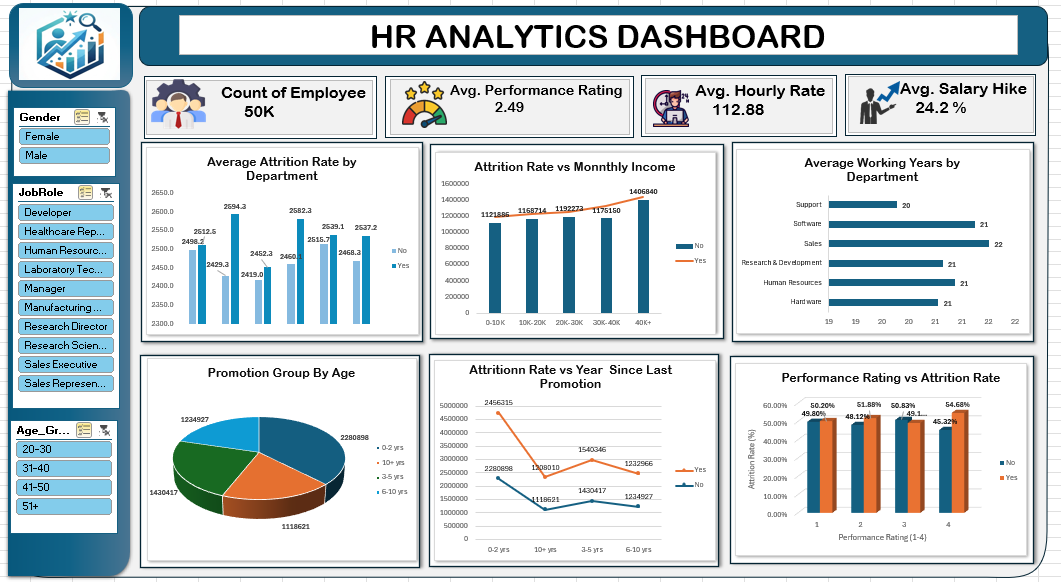

The page's visual inventory and layout, read from the dashboard file:
{"tool":"tableau","page":{"name":"Dashboard 1","canvas":[1000,1000],"units":"permille","ordinal":0},"visuals":[{"type":"title","box":[6.7,12.7,986.7,131.8]},{"type":"filter","title":"Avg Attrition rate for department","param":"[federated.1ltpma11v8394i160rquc02febbc].[none:Attrition:nk]","box":[887.5,115.9,97.5,130.2]},{"type":"worksheet","title":"Avg of Years at Company","mark":"Automatic","box":[124.2,117.5,174.2,128.6]},{"type":"filter","title":"Avg Attrition rate for department","param":"[federated.1ltpma11v8394i160rquc02febbc].[none:Department:nk]","box":[770,117.5,115.8,128.6]},{"type":"worksheet","title":"count of Employee","mark":"Automatic","box":[9.2,119,114.2,127]},{"type":"worksheet","title":"Avg of Attrition ","mark":"Automatic","box":[301.7,119,157.5,123.8]},{"type":"worksheet","title":"Avg of Salary Hike Percentage","mark":"Automatic","box":[463.3,120.6,151.7,122.2]},{"type":"worksheet","title":"sum of Hourely Rate","mark":"Automatic","box":[619.2,120.6,148.3,122.2]},{"type":"worksheet","title":"attrition rate vs Monthly Income","mark":"Bar","rows":["Calculation_168603568460685313","MonthlyIncome"],"cols":["Income Group"],"box":[617.5,244.4,250.8,442.9]},{"type":"filter","title":"AVG Hourely rate of male Researchscientist ","param":"[federated.1ltpma11v8394i160rquc02febbc].[none:Income Group:nk]","box":[870,244.4,113.3,158.7]},{"type":"worksheet","title":"KPI - 4","mark":"Automatic","rows":["Department"],"cols":["TotalWorkingYears"],"box":[350.9,246,264.8,442.9]},{"type":"worksheet","title":"KPI - 5","mark":"Square","rows":["JobRole"],"cols":["WorkLifeBalance"],"box":[7.5,247.6,342.5,442.9]}]}

Visuals, with their boxes on the dashboard's canvas, which has no fixed pixel size, in thousandths of its width and height (x1, y1, x2, y2). These are canvas units, not pixel positions in the 1061x582 screenshot, which may show the page scaled, cropped or inside an application window:
title: [7,13,993,144]
"Avg Attrition rate for department" filter: [888,116,985,246]
"Avg of Years at Company" worksheet: [124,118,298,246]
"Avg Attrition rate for department" filter: [770,118,886,246]
"count of Employee" worksheet: [9,119,123,246]
"Avg of Attrition " worksheet: [302,119,459,243]
"Avg of Salary Hike Percentage" worksheet: [463,121,615,243]
"sum of Hourely Rate" worksheet: [619,121,768,243]
"attrition rate vs Monthly Income" worksheet (Bar marks): [618,244,868,687]
"AVG Hourely rate of male Researchscientist " filter: [870,244,983,403]
"KPI - 4" worksheet: [351,246,616,689]
"KPI - 5" worksheet (Square marks): [8,248,350,690]
